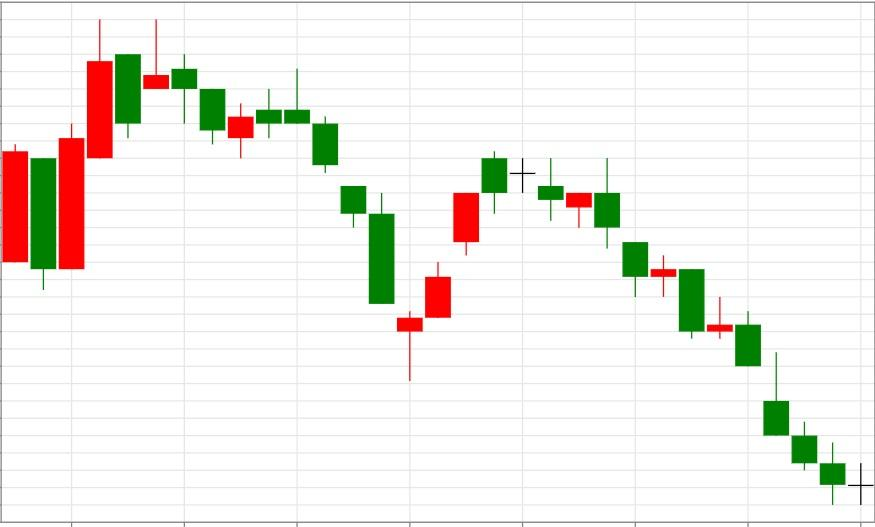three_white_soldiers_rise: (284, 67, 480, 382)
